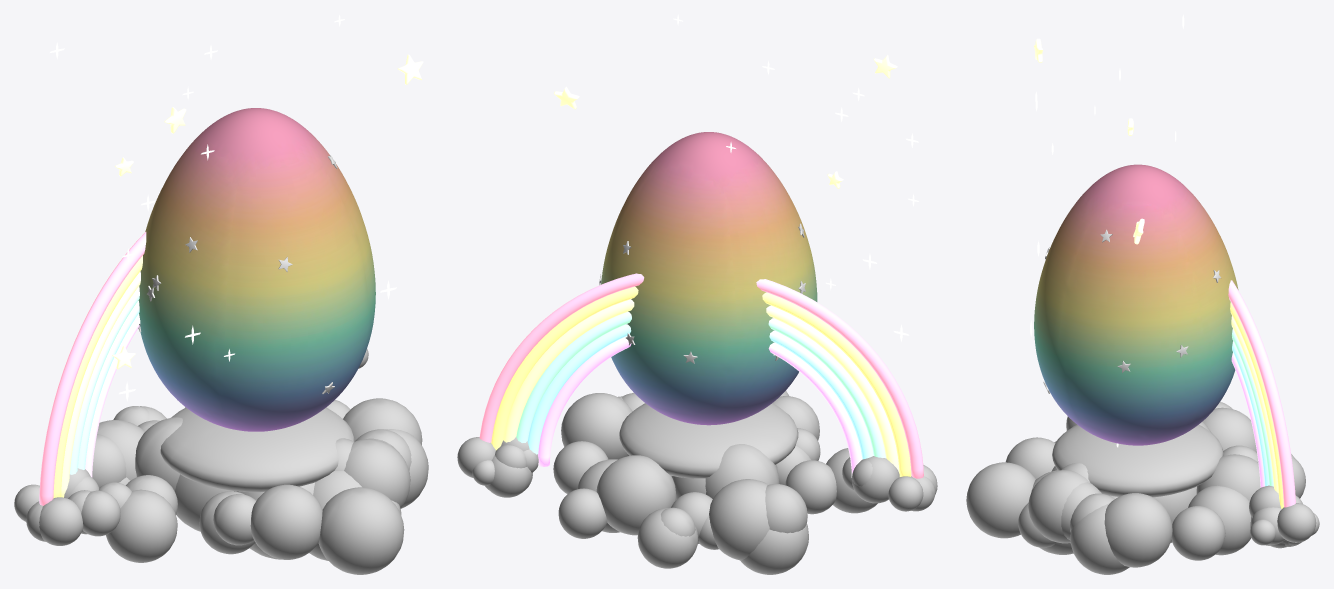
Rendered from rainbowdreamegg.glb.
The picture shows the model from 3 angles, left to right: view 1: azimuth 30°, elevation 25°; view 2: azimuth 150°, elevation 25°; view 3: azimuth 270°, elevation 25°; orthographic projection. The views are drawn at different scales.
Visible parts, largest first — view 1: RainbowDreamEgg_Body, RainbowDreamEgg_CloudTop, RainbowDreamEgg_CloudBase.024, RainbowDreamEgg_CloudBase.013, RainbowDreamEgg_RainbowArc, RainbowDreamEgg_CloudBase.011, RainbowDreamEgg_CloudBase.008, RainbowDreamEgg_CloudBase.027, RainbowDreamEgg_RainbowArc.001, RainbowDreamEgg_CloudBase.016, RainbowDreamEgg_RainbowArc.002, RainbowDreamEgg_ArcCloud.002 (+14 smaller); view 2: RainbowDreamEgg_Body, RainbowDreamEgg_CloudTop, RainbowDreamEgg_RainbowArc, RainbowDreamEgg_RainbowArc.001, RainbowDreamEgg_RainbowArc.002, RainbowDreamEgg_CloudBase.033, RainbowDreamEgg_RainbowArc.003, RainbowDreamEgg_RainbowArc.004, RainbowDreamEgg_RainbowArc.005, RainbowDreamEgg_CloudBase.010, RainbowDreamEgg_CloudBase.027, RainbowDreamEgg_CloudBase.007 (+15 smaller); view 3: RainbowDreamEgg_Body, RainbowDreamEgg_CloudTop, RainbowDreamEgg_CloudBase.027, RainbowDreamEgg_CloudBase.024, RainbowDreamEgg_RainbowArc, RainbowDreamEgg_CloudBase.008, RainbowDreamEgg_CloudBase.002, RainbowDreamEgg_CloudBase.034, RainbowDreamEgg_CloudBase.012, RainbowDreamEgg_CloudBase.033, RainbowDreamEgg_CloudBase.010, RainbowDreamEgg_CloudBase.013 (+13 smaller).
Boxes of the visible parts, left/top/right/bottom form: RainbowDreamEgg_Body: left=138, top=108, right=375, bottom=431; RainbowDreamEgg_CloudTop: left=160, top=407, right=354, bottom=492; RainbowDreamEgg_CloudBase.024: left=318, top=487, right=404, bottom=574; RainbowDreamEgg_CloudBase.013: left=250, top=484, right=322, bottom=559; RainbowDreamEgg_RainbowArc: left=39, top=232, right=146, bottom=505; RainbowDreamEgg_CloudBase.011: left=106, top=489, right=177, bottom=562; RainbowDreamEgg_CloudBase.008: left=344, top=439, right=410, bottom=508; RainbowDreamEgg_CloudBase.027: left=343, top=398, right=422, bottom=445; RainbowDreamEgg_RainbowArc.001: left=53, top=255, right=142, bottom=498; RainbowDreamEgg_CloudBase.016: left=135, top=417, right=182, bottom=490; RainbowDreamEgg_RainbowArc.002: left=61, top=271, right=140, bottom=497; RainbowDreamEgg_ArcCloud.002: left=39, top=497, right=83, bottom=545; RainbowDreamEgg_Body: left=601, top=132, right=817, bottom=425; RainbowDreamEgg_CloudTop: left=619, top=403, right=798, bottom=478; RainbowDreamEgg_RainbowArc: left=479, top=273, right=923, bottom=478; RainbowDreamEgg_RainbowArc.001: left=491, top=286, right=911, bottom=476; RainbowDreamEgg_RainbowArc.002: left=503, top=299, right=899, bottom=472; RainbowDreamEgg_CloudBase.033: left=596, top=455, right=676, bottom=535; RainbowDreamEgg_RainbowArc.003: left=516, top=312, right=885, bottom=458; RainbowDreamEgg_RainbowArc.004: left=527, top=324, right=873, bottom=459; RainbowDreamEgg_RainbowArc.005: left=538, top=336, right=862, bottom=477; RainbowDreamEgg_CloudBase.010: left=709, top=479, right=769, bottom=560; RainbowDreamEgg_CloudBase.027: left=561, top=393, right=632, bottom=459; RainbowDreamEgg_CloudBase.007: left=637, top=508, right=698, bottom=568; RainbowDreamEgg_Body: left=1034, top=164, right=1238, bottom=445; RainbowDreamEgg_CloudTop: left=1052, top=424, right=1223, bottom=497; RainbowDreamEgg_CloudBase.027: left=1104, top=493, right=1172, bottom=567; RainbowDreamEgg_CloudBase.024: left=966, top=462, right=1035, bottom=538; RainbowDreamEgg_RainbowArc: left=1228, top=280, right=1295, bottom=507; RainbowDreamEgg_CloudBase.008: left=1028, top=470, right=1090, bottom=543; RainbowDreamEgg_CloudBase.002: left=1171, top=506, right=1225, bottom=560; RainbowDreamEgg_CloudBase.034: left=1188, top=485, right=1251, bottom=555; RainbowDreamEgg_CloudBase.012: left=1070, top=503, right=1129, bottom=574; RainbowDreamEgg_CloudBase.033: left=1196, top=454, right=1260, bottom=501; RainbowDreamEgg_CloudBase.010: left=1202, top=407, right=1256, bottom=452; RainbowDreamEgg_CloudBase.013: left=1005, top=437, right=1055, bottom=479.
Size of the model in its own units: 5.15 by 6.22 by 4.32.
11 materials, 1 textured.
